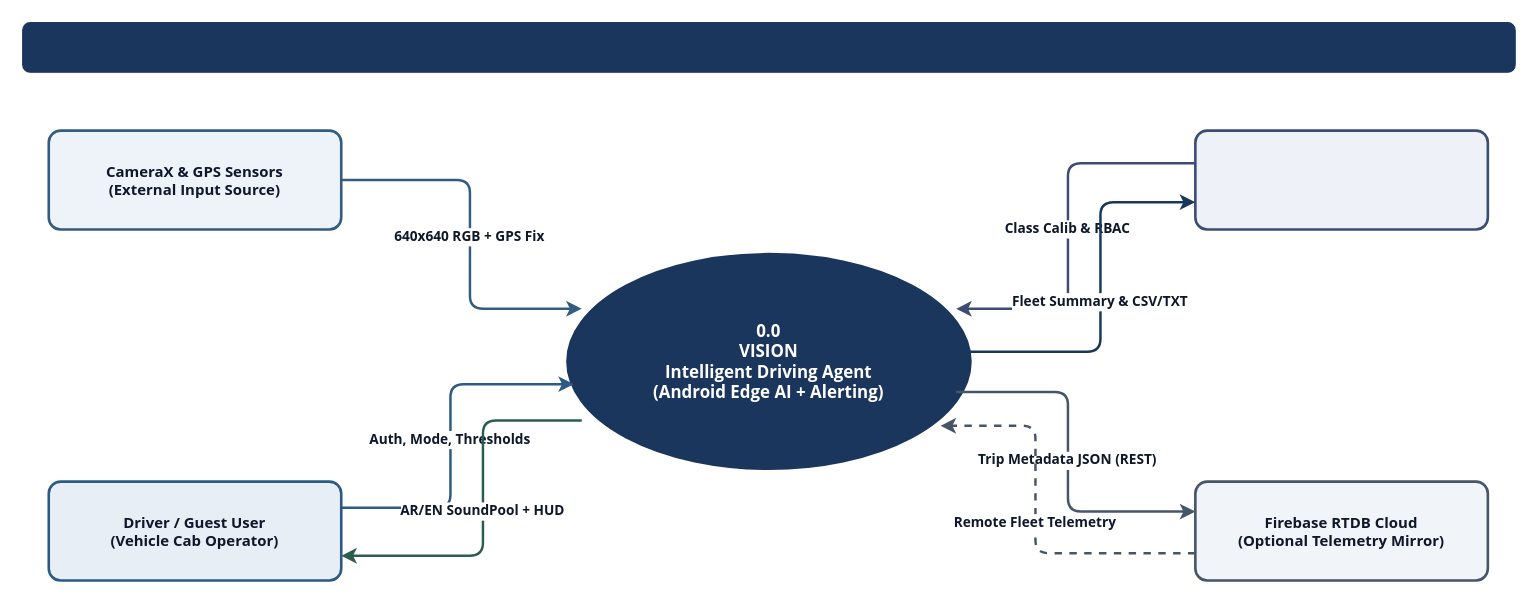
Some shapes in this 1538 by 605 pixel diagram are drawn without their labels. Each missing label, with the box of its shape:
Administrator (Calibration & Fleet Logs): (1193, 129, 1488, 230)
Context Diagram (DFD Level 0) - VISION Intelligent Driving Agent: (21, 21, 1515, 72)
